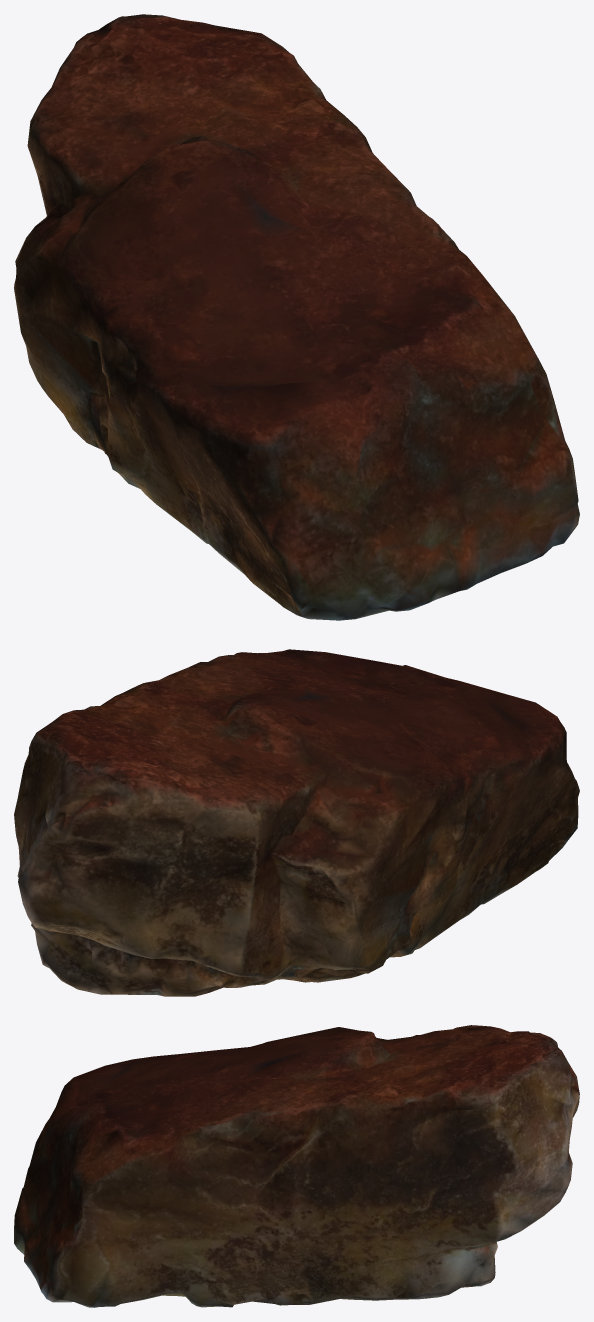
Rendered from ph-rock_07.glb.
3 views of the same model, one above another, from view 1: azimuth 30°, elevation 25°; view 2: azimuth 150°, elevation 25°; view 3: azimuth 270°, elevation 25° (orthographic). The views are drawn at different scales.
Visible parts, largest first — view 1: rock_07; view 2: rock_07; view 3: rock_07.
Part boxes in pixels (x1,y1,x2,y2): rock_07: (14, 14, 579, 620); rock_07: (14, 649, 579, 996); rock_07: (14, 1025, 579, 1307).
Size of the model in its own units: 0.1686 by 0.1437 by 0.3199.
Materials: 1 (1 with a texture image).
